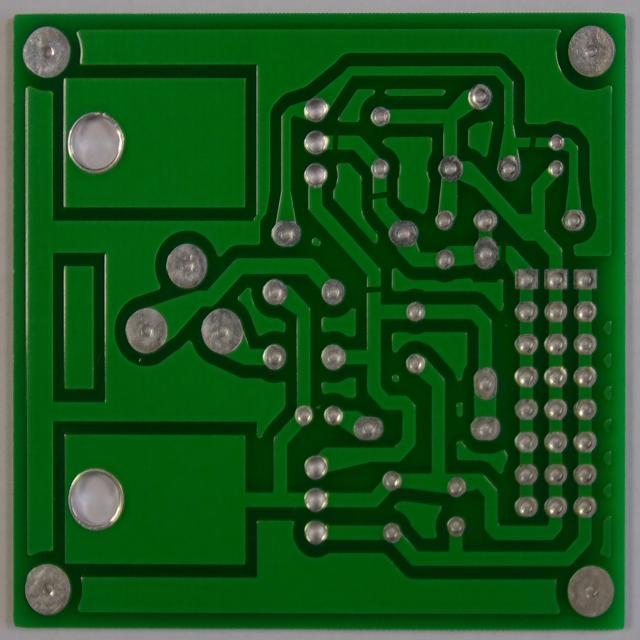open_circuit: (358, 279, 386, 299), (364, 186, 392, 205), (522, 129, 540, 154), (496, 239, 512, 265), (328, 129, 343, 154)
